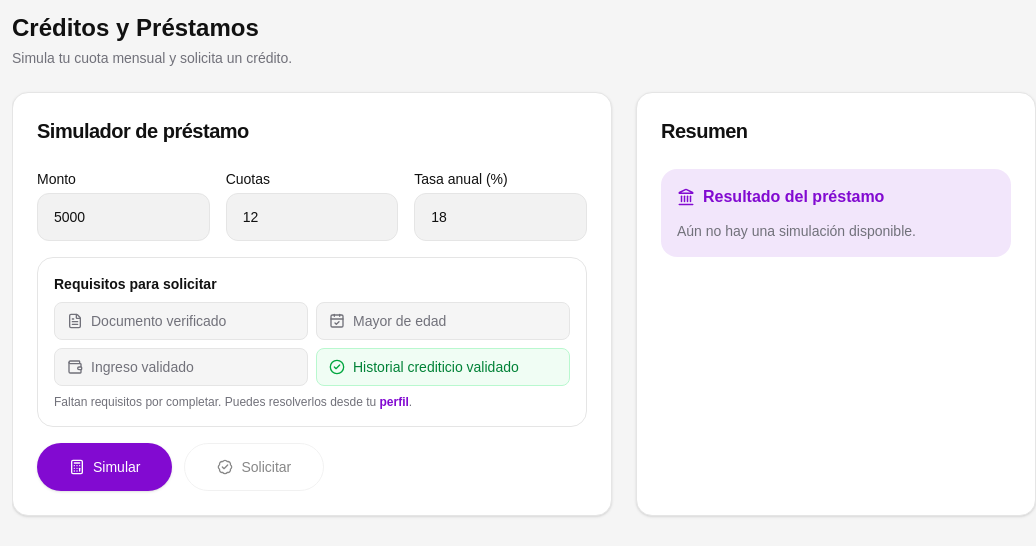
LoansClient › should simulate successfully and render the summary
The image size is (1036, 546).
Step 1. Click the button "Simular" → (105, 467), box x1=37 y1=443 x2=172 y2=491
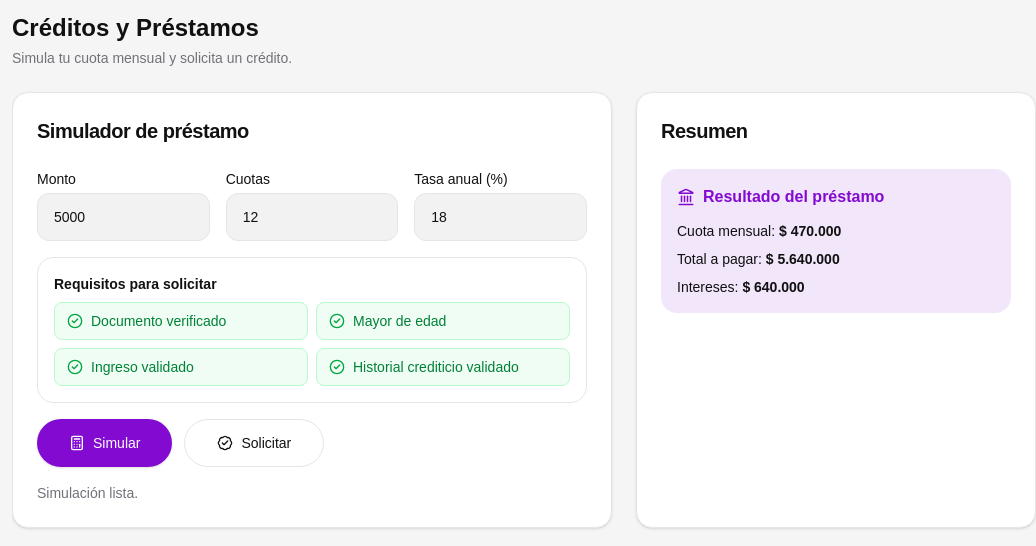
Expected: the text "Simulación lista." is shown, x1=37 y1=485 x2=138 y2=501
